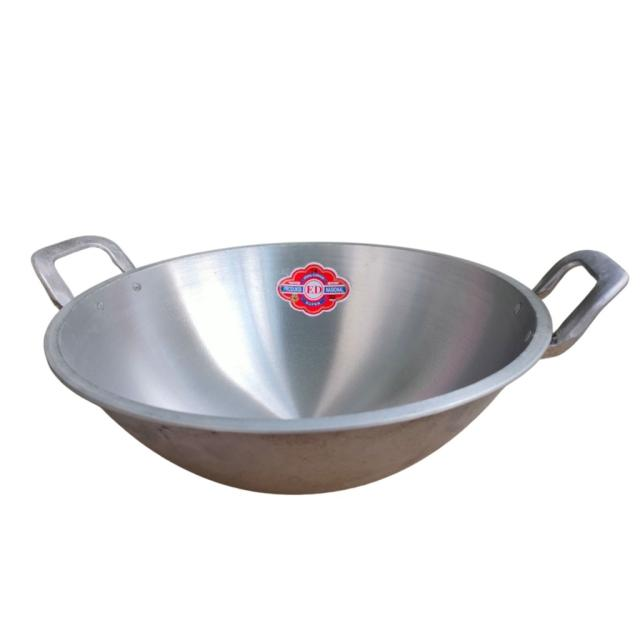Wajan: (23, 225, 633, 505)
